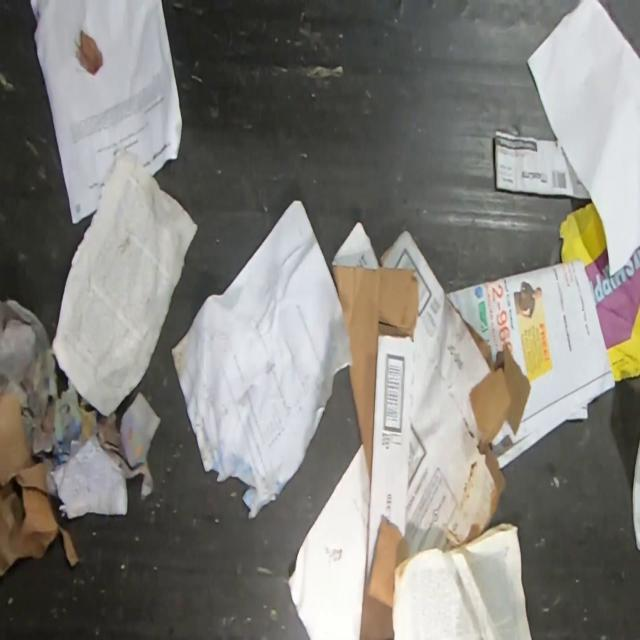cardboard: (332, 221, 532, 640), (0, 384, 80, 577)
soft_plastic: (559, 202, 640, 381)
